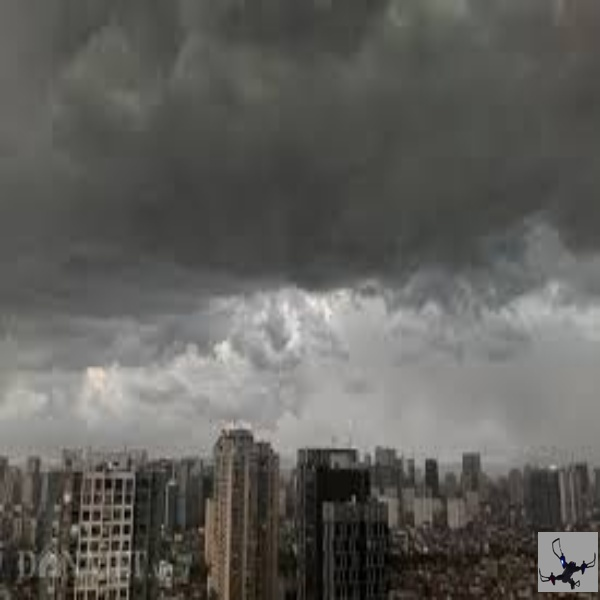drone: (540, 537, 597, 589)
